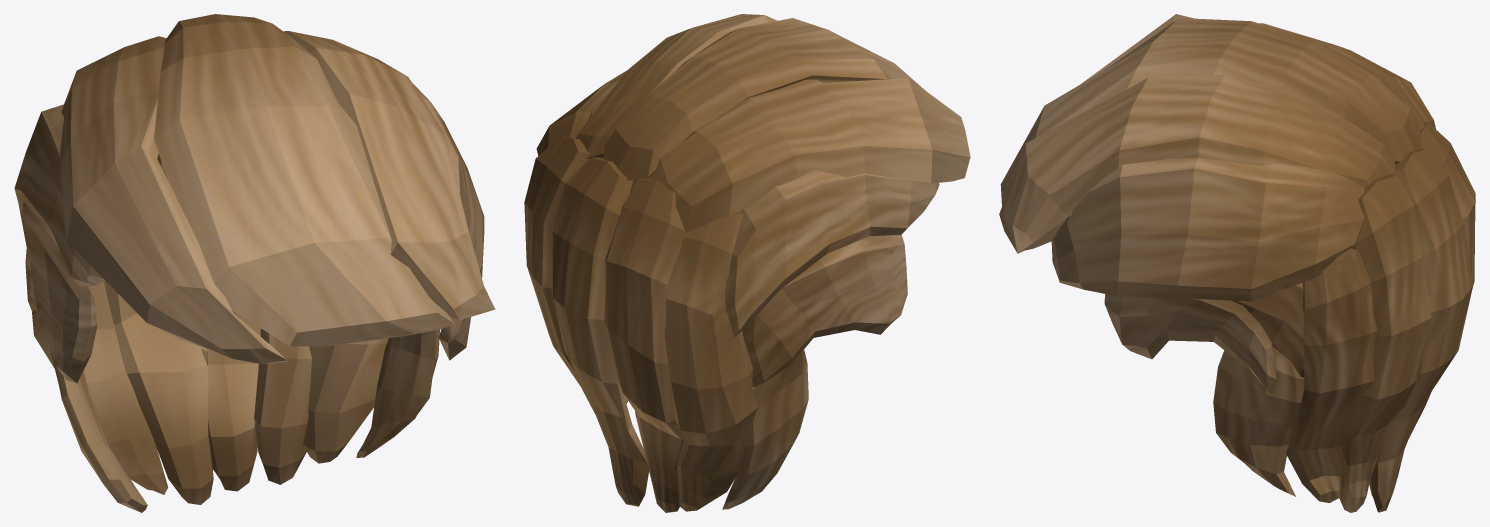
File: trump_hair.fbx
3 views of the same model, side by side, from view 1: azimuth 30°, elevation 25°; view 2: azimuth 150°, elevation 25°; view 3: azimuth 270°, elevation 25° (orthographic). The views are drawn at different scales.
Parts seen in each view (by area): view 1: Trump_Hair:pCube14 Trump_Geo.001; view 2: Trump_Hair:pCube14 Trump_Geo.001; view 3: Trump_Hair:pCube14 Trump_Geo.001.
Boxes of the visible parts, x1,y1,x2,y2 form: Trump_Hair:pCube14 Trump_Geo.001: (14,14,495,512); Trump_Hair:pCube14 Trump_Geo.001: (524,14,970,512); Trump_Hair:pCube14 Trump_Geo.001: (999,14,1475,512).
Bounding box in the file's own units: 280 × 333 × 325.
